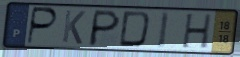D: (117, 10, 153, 49)
H: (180, 13, 214, 51)
I: (156, 10, 171, 50)
K: (60, 8, 87, 46)
P: (25, 5, 60, 46), (86, 9, 122, 48)
